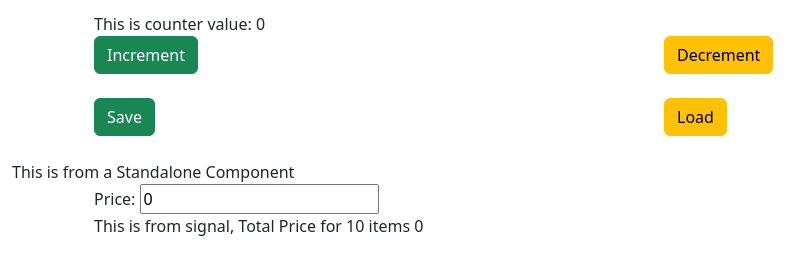
Test: My e2e Test for Angular Sample Second › Test - Store Counter - Increment
Note: increment by 2
Click the button with class "btn-success" showing "Increment".
click(146, 55)  # box [94, 36, 198, 74]
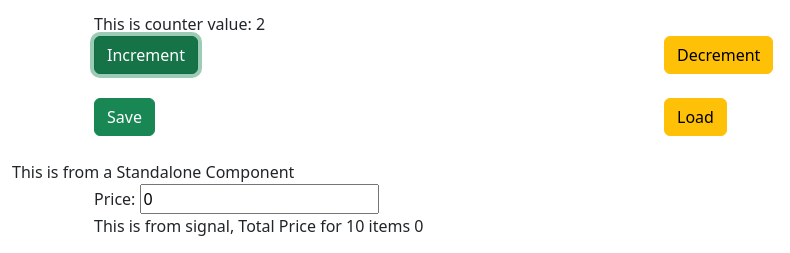
Now the text "This is counter value: 2" is shown, box [94, 13, 265, 35]
